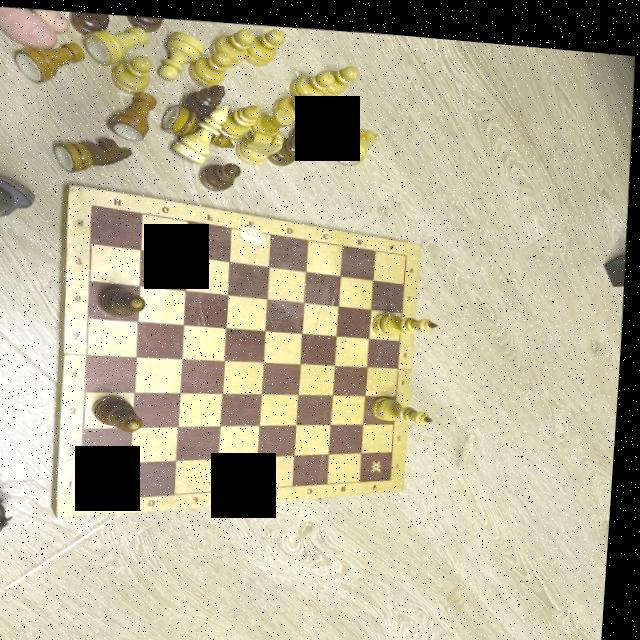chess-table-corners: (89, 196, 102, 208), (81, 491, 92, 502), (404, 242, 414, 250), (392, 466, 401, 474)
